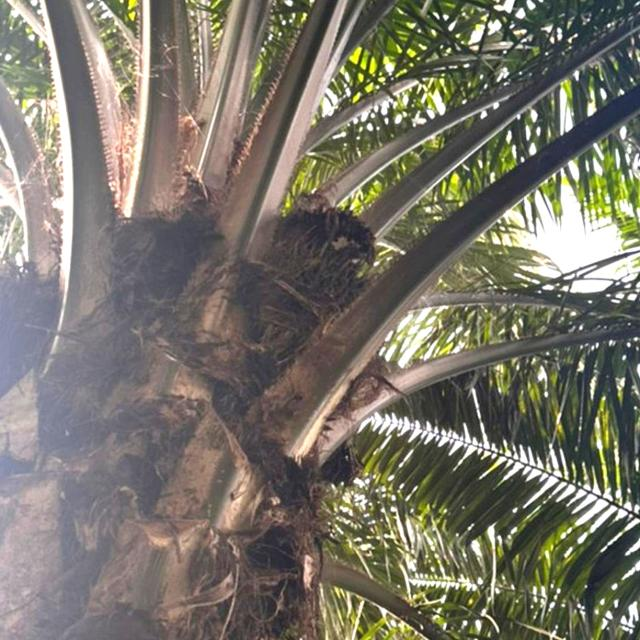unripe: (258, 189, 383, 322)
